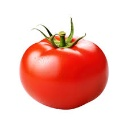tomato: (20, 34, 109, 110)
